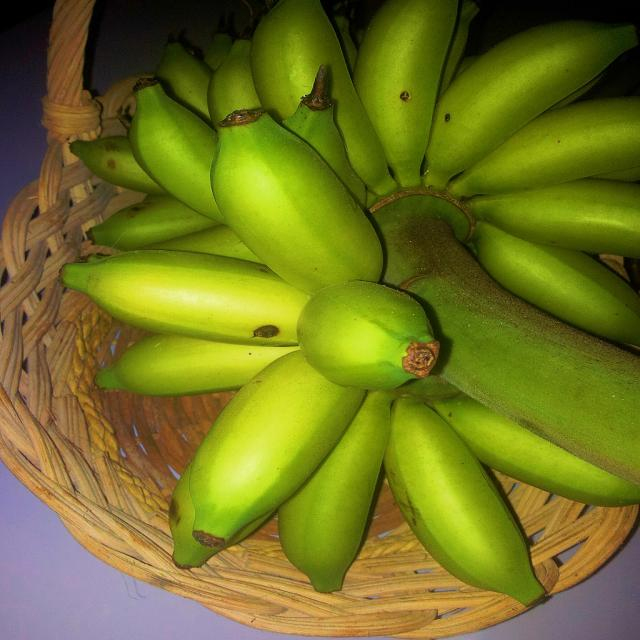Banana: (86, 0, 353, 245), (117, 332, 369, 578), (386, 349, 554, 630), (267, 331, 421, 614), (200, 100, 382, 313), (409, 26, 638, 188), (55, 234, 344, 349), (267, 275, 455, 416), (444, 234, 640, 357), (350, 0, 476, 171), (469, 128, 634, 247)
